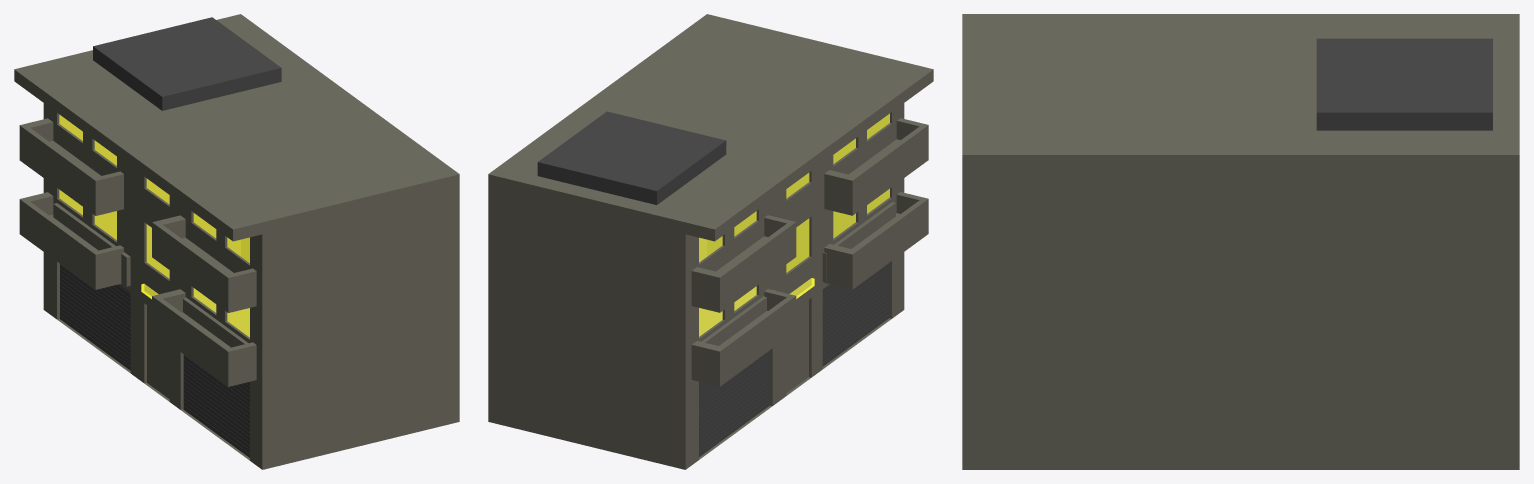
The model's file is apartment_01.fbx.
3 views of the same model, side by side, from view 1: azimuth 30°, elevation 25°; view 2: azimuth 150°, elevation 25°; view 3: azimuth 270°, elevation 25° (orthographic). The views are drawn at different scales.
Visible parts, largest first — view 1: apartment_01; view 2: apartment_01; view 3: apartment_01.
Boxes of the visible parts, x1=… form: apartment_01: x1=14, y1=14, x2=459, y2=469; apartment_01: x1=488, y1=14, x2=933, y2=469; apartment_01: x1=962, y1=14, x2=1519, y2=469.
Size of the model in its own units: 1335 by 1472 by 2234.
